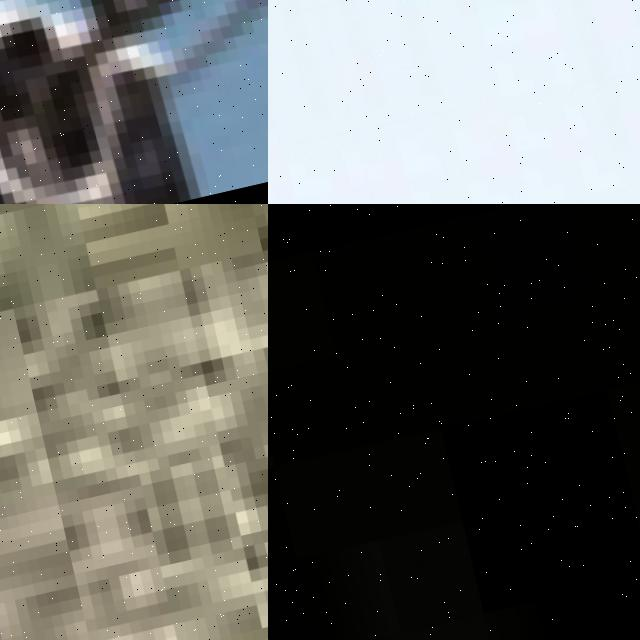drone: (268, 0, 640, 204), (0, 0, 268, 204)
